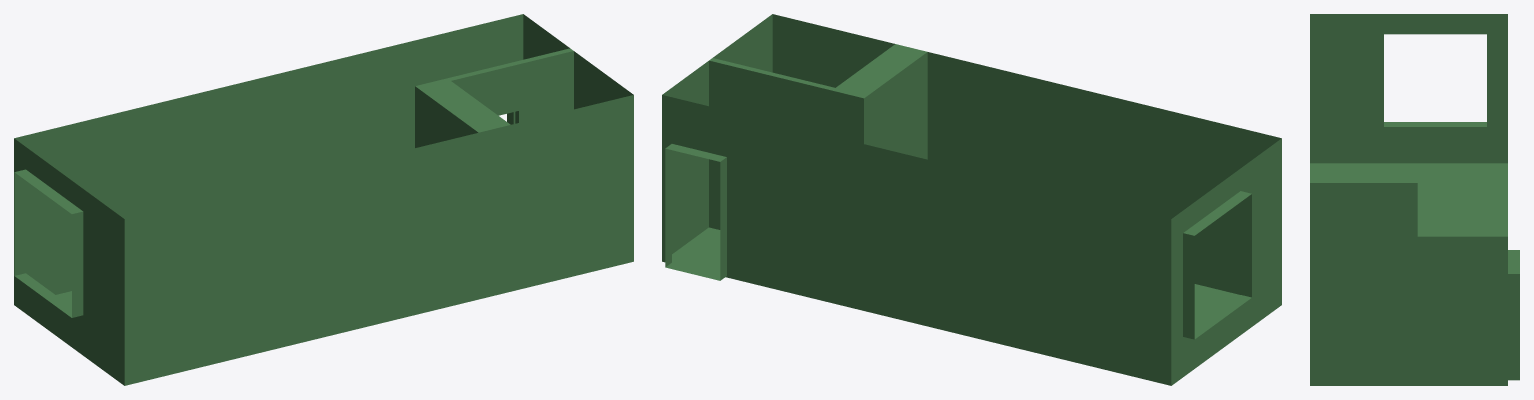
Rendered from Rooms_A_3_2_18.FBX.
The picture shows the model from 3 angles, left to right: view 1: azimuth 30°, elevation 25°; view 2: azimuth 150°, elevation 25°; view 3: azimuth 270°, elevation 25°; orthographic projection. The views are drawn at different scales.
Visible parts, largest first — view 1: Rooms_A_3_2_18; view 2: Rooms_A_3_2_18; view 3: Rooms_A_3_2_18.
Boxes of the visible parts, <box> form: Rooms_A_3_2_18: <box>14,14,633,385</box>; Rooms_A_3_2_18: <box>662,14,1281,385</box>; Rooms_A_3_2_18: <box>1310,14,1519,385</box>.
Size of the model in its own units: 9.14 by 2.8 by 3.56.
